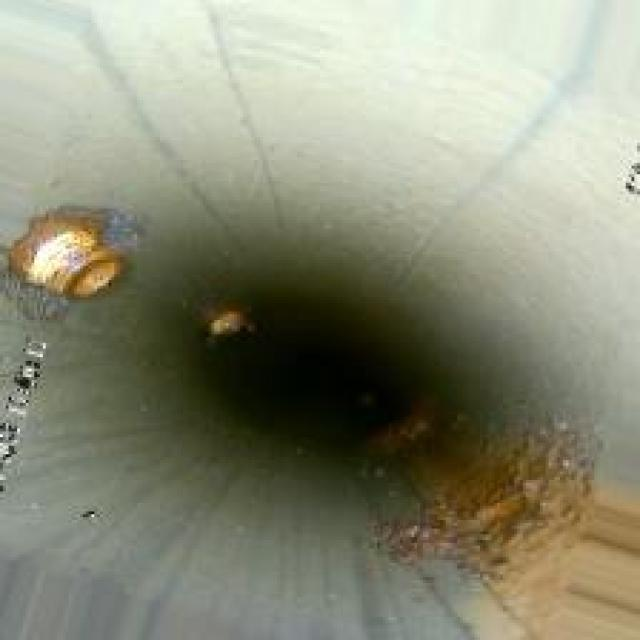ferrule: (5, 174, 126, 317), (203, 288, 246, 352)
